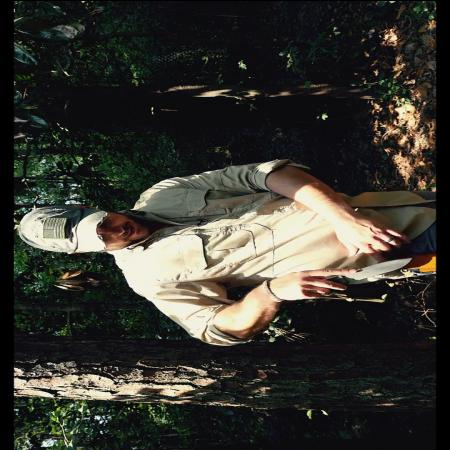long weapon: (306, 255, 414, 293)
